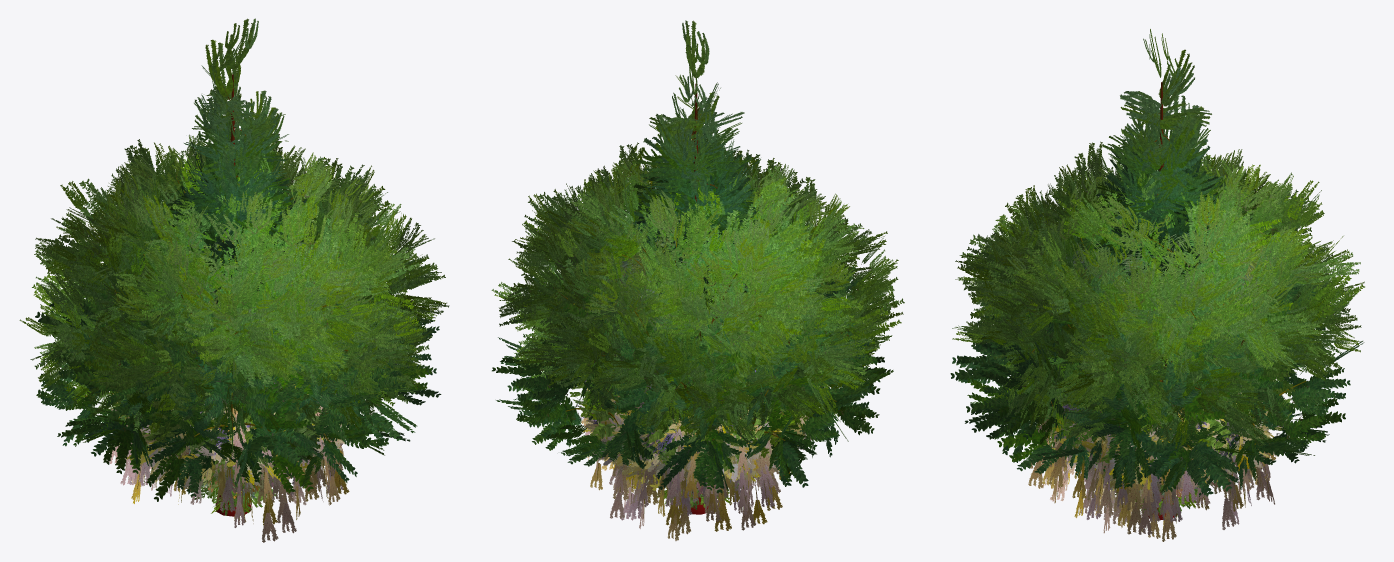
Rendered from trees.glb.
The picture shows the model from 3 angles, left to right: view 1: azimuth 30°, elevation 25°; view 2: azimuth 150°, elevation 25°; view 3: azimuth 270°, elevation 25°; orthographic projection. The views are drawn at different scales.
Visible parts, largest first — view 1: camphor_LODH, camphor_LOD0, fig_LOD0, zelkova_LODH, zelkova_LOD0, sugi_LODH, sugi_LOD0, shidarezakura_LOD0, pisonia_LOD0, plane_LODH, cherry_LOD0, cherry_LODH (+3 smaller); view 2: camphor_LODH, camphor_LOD0, fig_LOD0, zelkova_LODH, zelkova_LOD0, shidarezakura_LOD0, sugi_LODH, sugi_LOD0, pisonia_LOD0, cherry_LOD0, elm_LOD0, cherry_LODH (+4 smaller); view 3: camphor_LODH, camphor_LOD0, fig_LOD0, zelkova_LODH, zelkova_LOD0, shidarezakura_LOD0, sugi_LODH, sugi_LOD0, elm_LOD0, plane_LOD0, pisonia_LOD0, gum_LOD0 (+3 smaller).
Part boxes in pixels (x1,y1,x2,y2): camphor_LODH: (19, 139, 449, 442); camphor_LOD0: (26, 133, 446, 434); fig_LOD0: (35, 244, 441, 516); zelkova_LODH: (61, 135, 389, 423); zelkova_LOD0: (66, 140, 389, 390); sugi_LODH: (163, 18, 316, 410); sugi_LOD0: (151, 18, 309, 342); shidarezakura_LOD0: (108, 394, 349, 542); pisonia_LOD0: (113, 369, 356, 467); plane_LODH: (119, 236, 337, 433); cherry_LOD0: (108, 394, 348, 492); cherry_LODH: (126, 406, 347, 488); camphor_LODH: (491, 142, 903, 445); camphor_LOD0: (494, 145, 904, 445); fig_LOD0: (492, 261, 893, 514); zelkova_LODH: (541, 150, 856, 428); zelkova_LOD0: (536, 156, 849, 393); shidarezakura_LOD0: (581, 385, 811, 540); sugi_LODH: (632, 20, 769, 347); sugi_LOD0: (632, 20, 760, 348); pisonia_LOD0: (569, 368, 824, 490); cherry_LOD0: (583, 388, 809, 490); elm_LOD0: (567, 234, 815, 399); cherry_LODH: (584, 382, 808, 483); camphor_LODH: (952, 139, 1361, 449); camphor_LOD0: (952, 145, 1364, 448); fig_LOD0: (950, 239, 1364, 519); zelkova_LODH: (993, 149, 1335, 433); zelkova_LOD0: (994, 154, 1328, 432); shidarezakura_LOD0: (1028, 403, 1275, 541); sugi_LODH: (1082, 33, 1228, 369); sugi_LOD0: (1081, 29, 1237, 368); elm_LOD0: (1023, 237, 1300, 424); plane_LOD0: (1047, 237, 1274, 446); pisonia_LOD0: (1047, 375, 1294, 465); gum_LOD0: (1066, 208, 1286, 320).
Size of what is drawn, in the model's own units: 24.68 by 30.63 by 24.51.
Materials: 26 (1 with a texture image).
